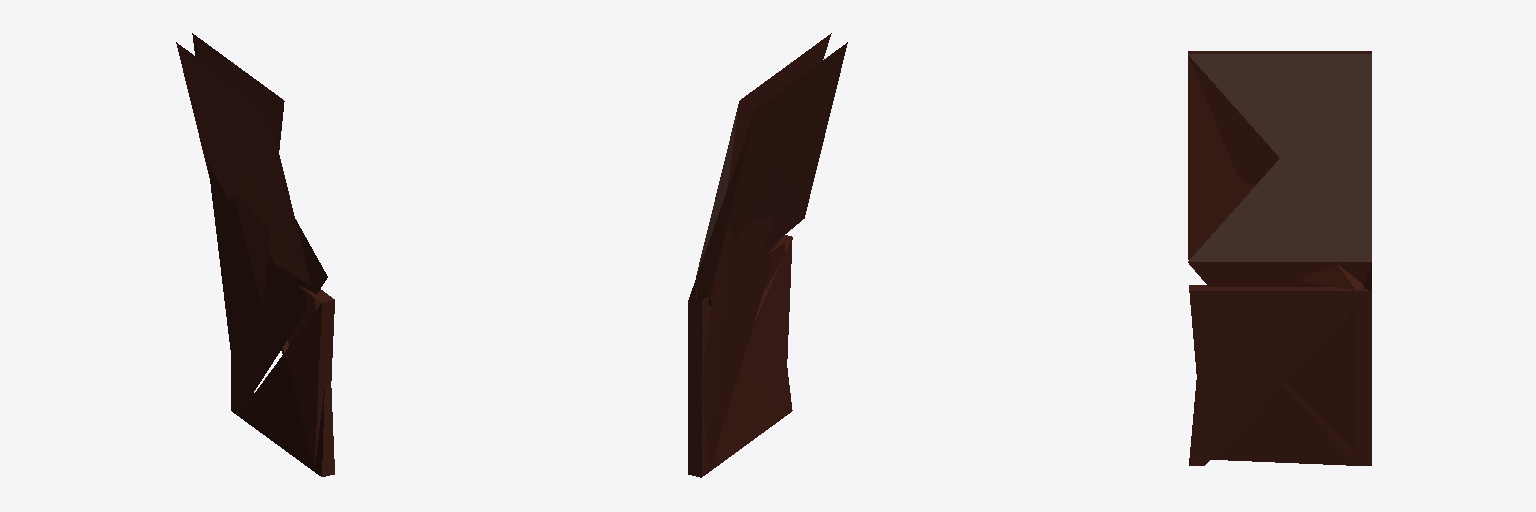
File: Chair.obj
The picture shows the model from 3 angles: view 1: azimuth 30°, elevation 25°; view 2: azimuth 150°, elevation 25°; view 3: azimuth 270°, elevation 25°; orthographic projection.
Visible parts, largest first — view 1: Box010; view 2: Box010, Box007; view 3: Box010, Box007.
Boxes of the visible parts, <box> form: Box010: <box>176,33,334,476</box>; Box010: <box>689,33,847,471</box>; Box007: <box>688,298,708,477</box>; Box010: <box>1188,51,1371,465</box>; Box007: <box>1356,288,1371,465</box>.
Bounding box in the file's own units: 24635 × 134707 × 58310.